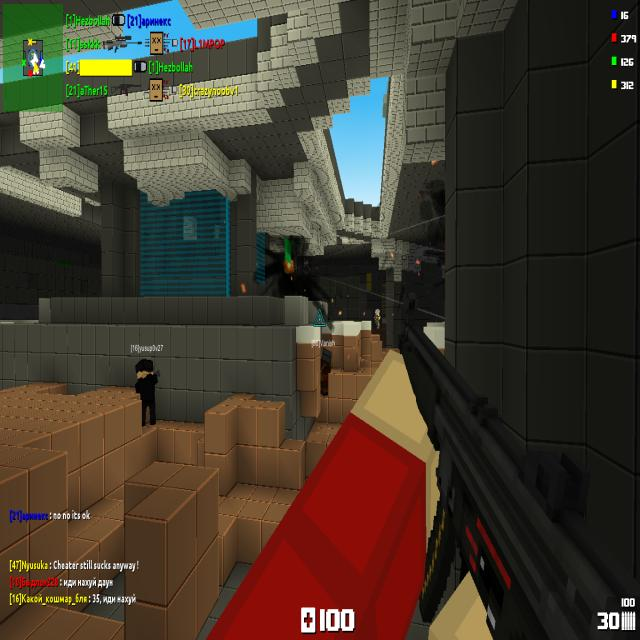enemy: (303, 258, 310, 278), (375, 309, 380, 329)
